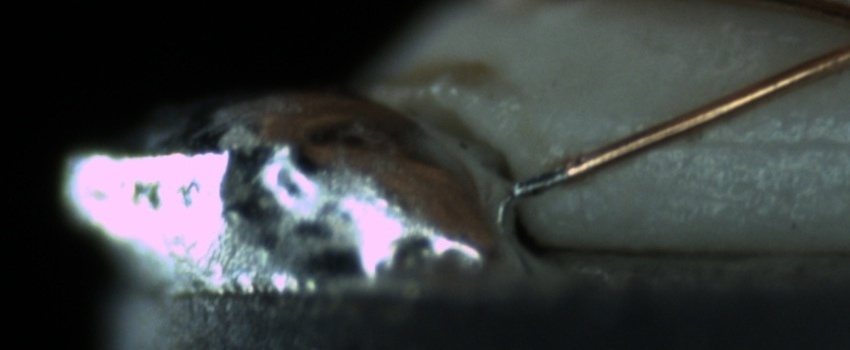DL: (642, 111, 849, 173)
TS: (512, 166, 572, 199)
TTCW: (508, 158, 579, 202)
